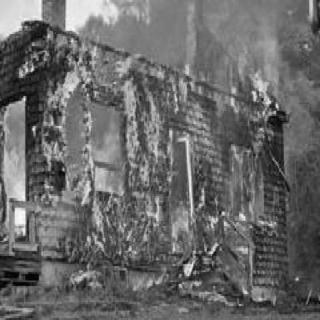Fire: (4, 31, 278, 301)
